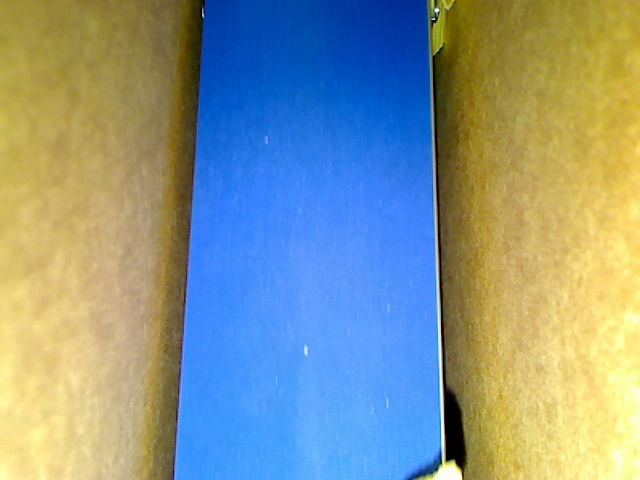penne: (428, 1, 445, 58), (439, 1, 456, 13)
shell: (403, 456, 464, 479)
